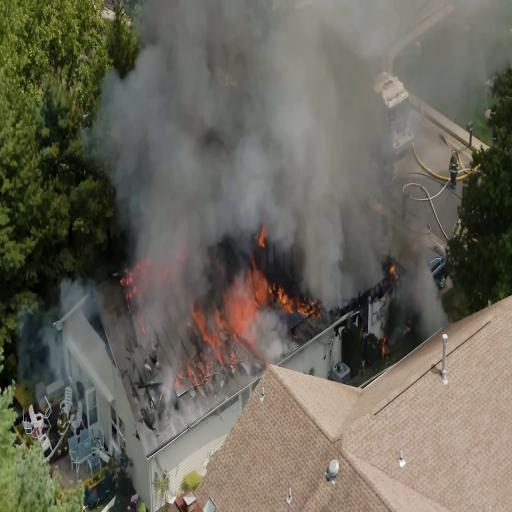fire: (212, 264, 280, 354)
smoke: (258, 22, 358, 230)
